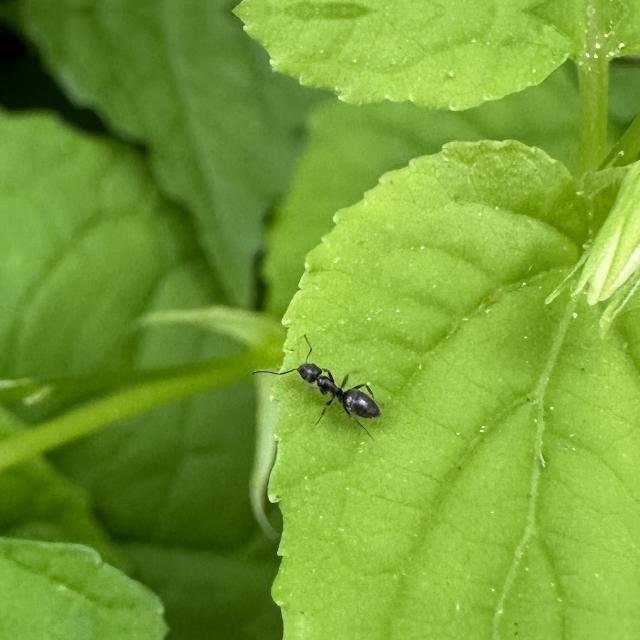Tapinoma: (278, 340, 392, 432)
